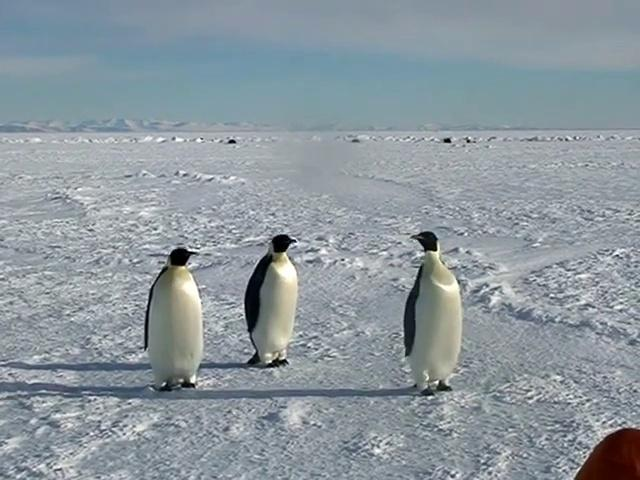animal: (405, 232, 464, 396)
